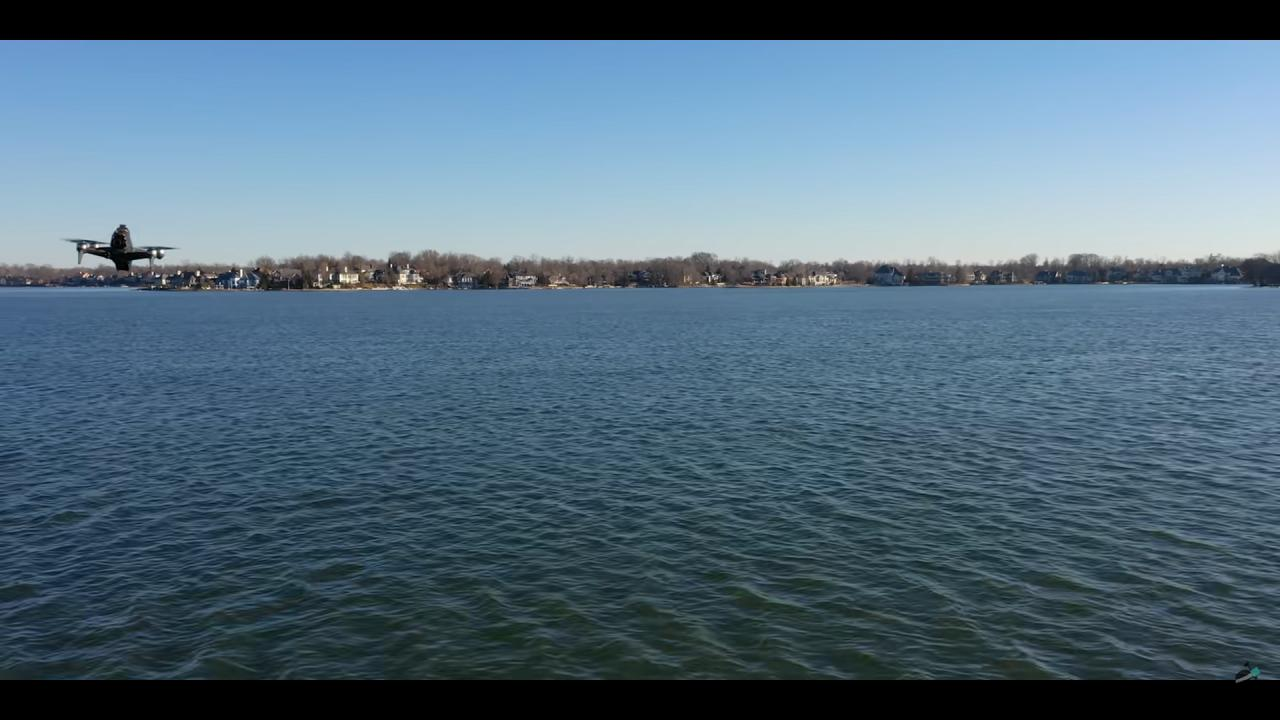Drone: (63, 214, 187, 286)
